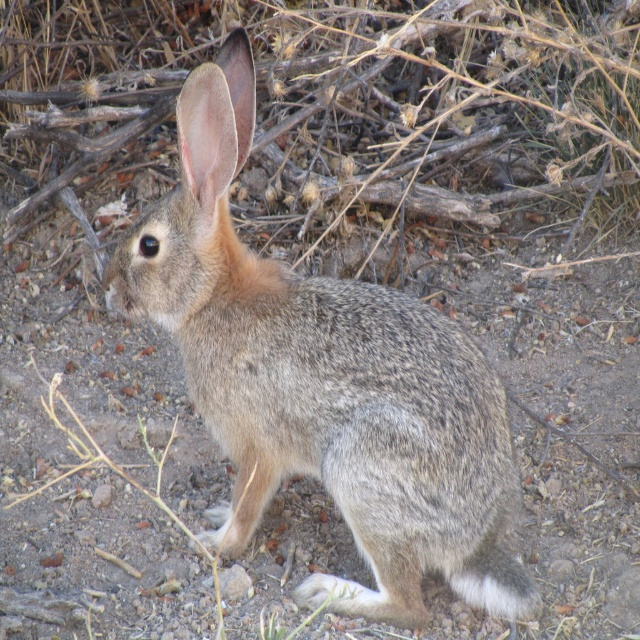Rabbit: (101, 29, 542, 628)
